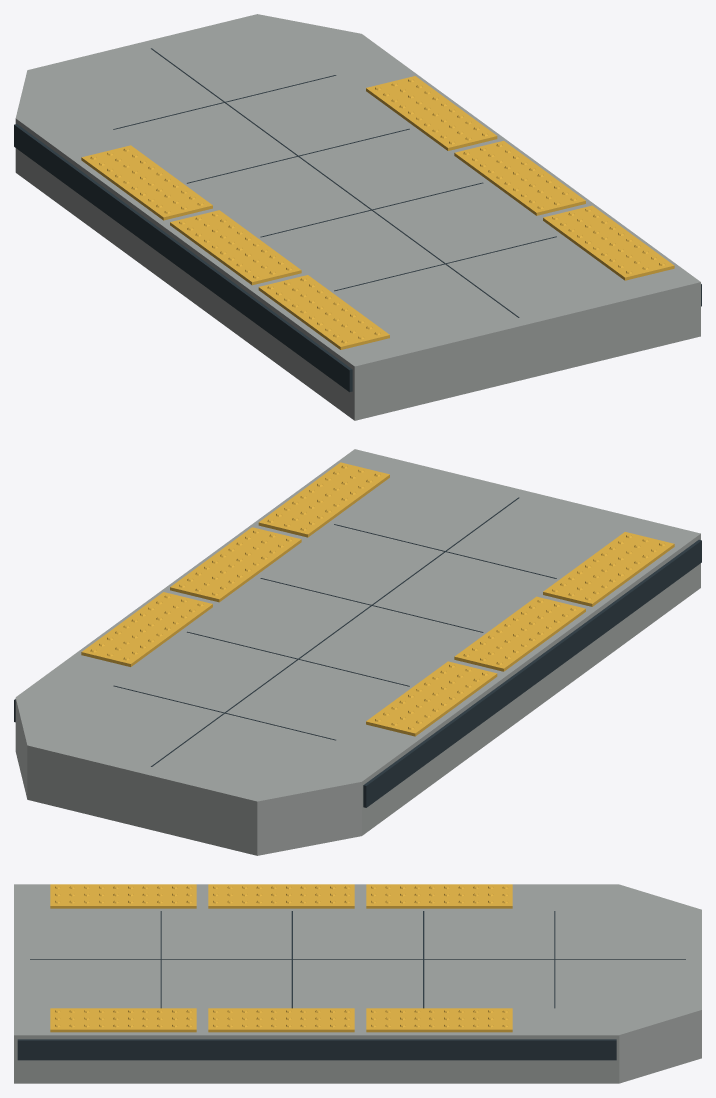
Rendered from b13_center_island_light_rail_platform.glb.
3 views of the same model, one above another, from view 1: azimuth 30°, elevation 25°; view 2: azimuth 150°, elevation 25°; view 3: azimuth 270°, elevation 25° (orthographic). The views are drawn at different scales.
Parts seen in each view (by area): view 1: b13_center_island_light_rail_platform; view 2: b13_center_island_light_rail_platform; view 3: b13_center_island_light_rail_platform.
Boxes of the visible parts, x1,y1,x2,y2 form: b13_center_island_light_rail_platform: [14, 14, 701, 420]; b13_center_island_light_rail_platform: [14, 449, 701, 855]; b13_center_island_light_rail_platform: [14, 884, 701, 1083].
Bounding box in the file's own units: 2.85 × 0.454 × 5.4.
